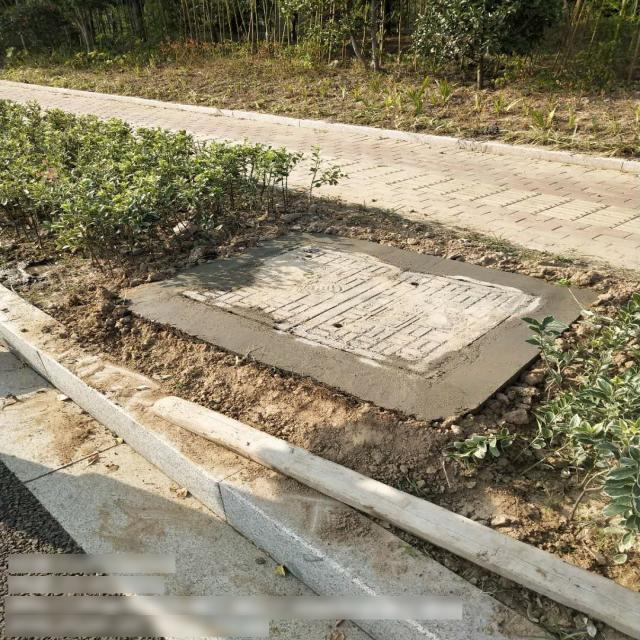Good: (169, 239, 542, 381)
